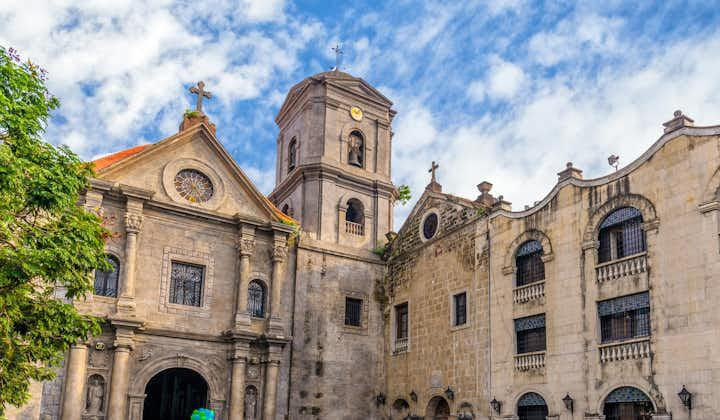Environmental Damage: (388, 182, 414, 210), (371, 240, 391, 265), (180, 109, 199, 123), (474, 206, 487, 217)
San Agustin Church: (67, 29, 400, 416)
